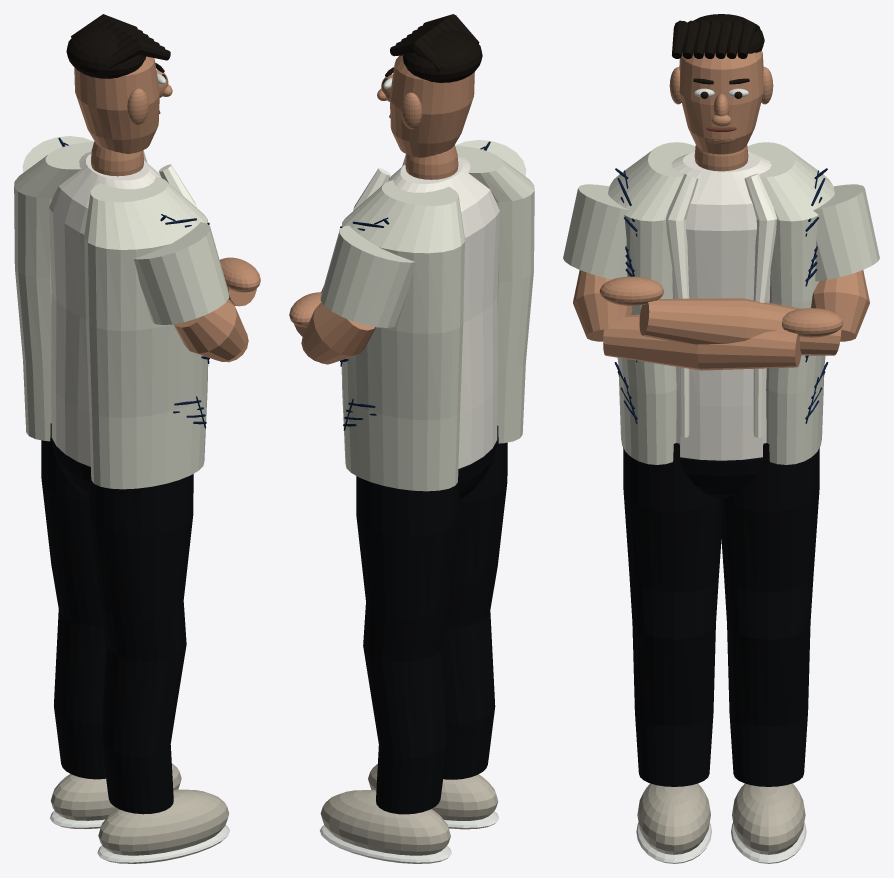
Rendered from person.dae.
3 views of the same model, side by side, from view 1: azimuth 30°, elevation 25°; view 2: azimuth 150°, elevation 25°; view 3: azimuth 270°, elevation 25° (orthographic).
Parts seen in each view (by area): view 1: Person; view 2: Person; view 3: Person.
Part boxes in pixels (bbox=[...]): Person: bbox=[14, 14, 260, 863]; Person: bbox=[289, 14, 534, 863]; Person: bbox=[563, 14, 879, 863].
Size of the model in its own units: 0.3855 by 0.6373 by 1.8.
